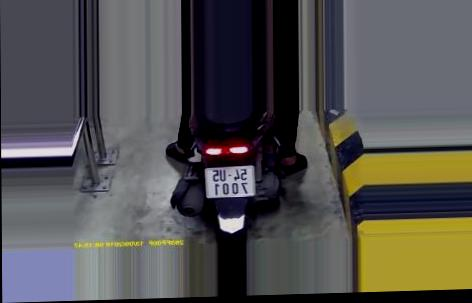License_Plate: (201, 162, 261, 204)
